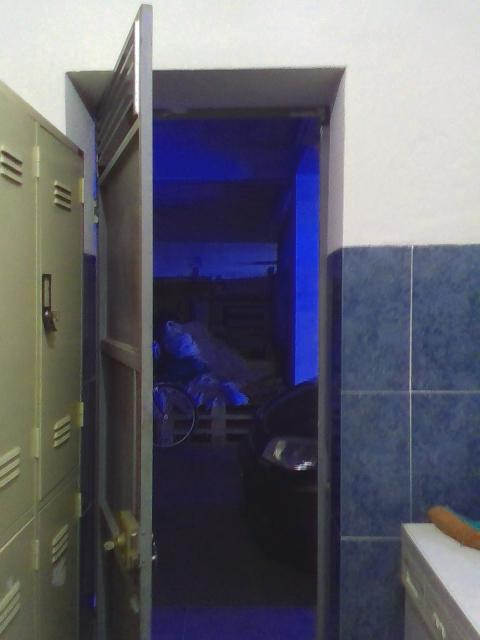semi_door: (62, 3, 346, 639)
